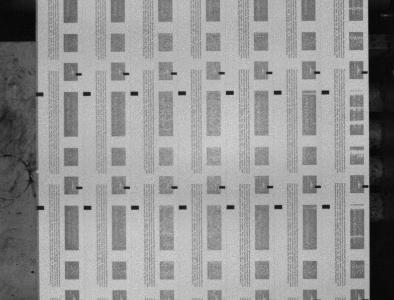backgroundclutter: (31, 270, 35, 273)
qblock: (130, 91, 139, 96), (322, 204, 331, 208), (37, 205, 44, 210), (84, 205, 91, 210), (179, 205, 187, 209), (131, 205, 139, 209), (227, 205, 235, 209), (275, 205, 283, 209), (36, 92, 44, 96), (178, 91, 186, 95), (83, 92, 91, 96), (226, 91, 234, 95), (274, 90, 282, 94), (322, 90, 330, 94)
smallqblock: (220, 185, 226, 189), (219, 71, 225, 75), (76, 186, 83, 189), (267, 185, 274, 188), (123, 186, 130, 189), (75, 73, 82, 76), (123, 72, 130, 75), (315, 185, 321, 188), (363, 185, 369, 188), (172, 186, 178, 189), (362, 71, 368, 74), (315, 71, 321, 74), (267, 71, 273, 74), (171, 72, 177, 75)
